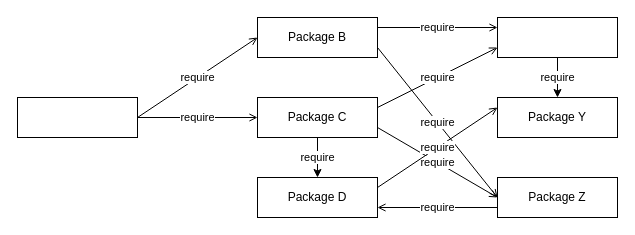
This 635x235 diagram has some shape labels left out. Each missing label, with the centre of its shape:
"Package A" belongs at (x=77, y=117).
"Package X" belongs at (x=557, y=37).
